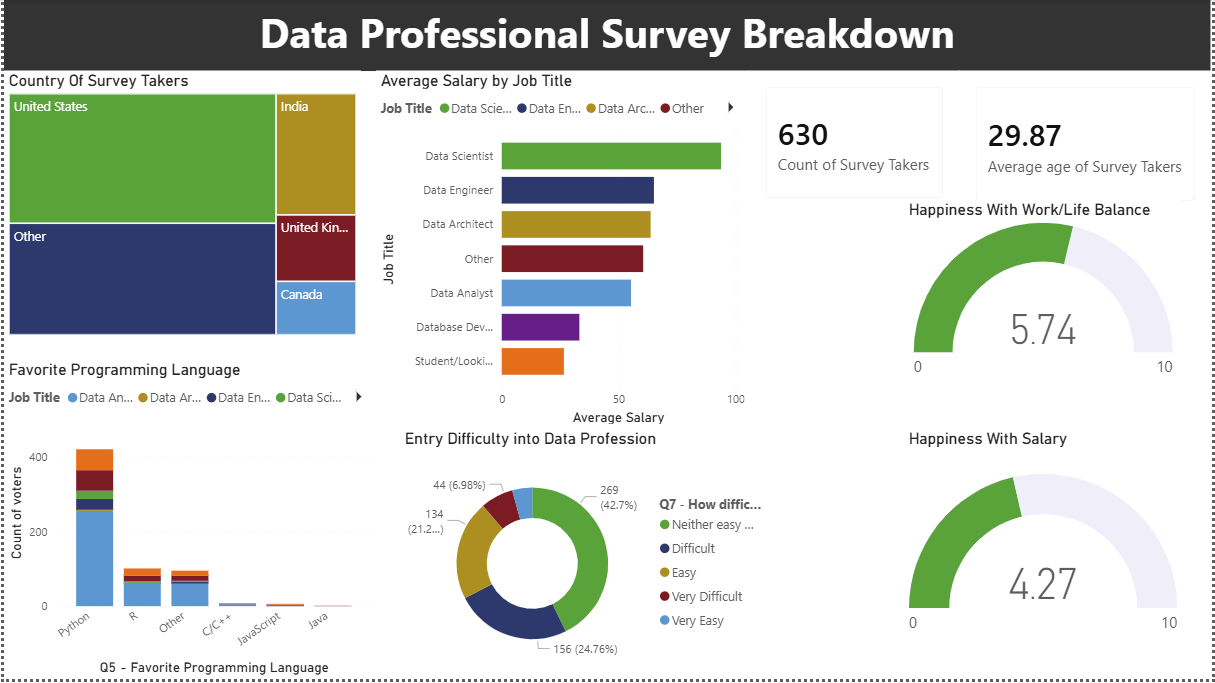

What the dashboard file says about the page in this screenshot:
{"tool":"powerbi","page":{"name":"Page 2","canvas":[1280,720],"ordinal":0},"visuals":[{"type":"textbox","box":[0,0,1279.4,75.6],"z":0},{"type":"cardVisual","fields":{"Data":["CountNonNull(Data Professional Survey (2).Unique ID)"]},"box":[790.3,75.3,222.5,152.2],"z":1000},{"type":"cardVisual","fields":{"Data":["Avg(Data Professional Survey (2).Q10 - Current Age)"]},"box":[1012.8,75.3,266.7,155.4],"z":2000},{"type":"barChart","title":"Average Salary by Job Title","fields":{"Category":["Data Professional Survey (2).Q1 - Which Title Best Fits your Current Role?.1"],"Y":["Avg(Data Professional Survey (2).Average Salary)"],"Series":["Data Professional Survey (2).Q1 - Which Title Best Fits your Current Role?.1"]},"box":[394.3,75.3,395.9,379.6],"z":3000},{"type":"columnChart","title":"Favorite Programming Language","fields":{"Category":["Data Professional Survey (2).Q5 - Favorite Programming Language.1"],"Y":["CountNonNull(Data Professional Survey (2).Unique ID)"],"Series":["Data Professional Survey (2).Q1 - Which Title Best Fits your Current Role?.1"]},"box":[0,381.2,394.3,338.7],"z":4000},{"type":"treemap","title":"Country Of Survey Takers","fields":{"Group":["Data Professional Survey (2).Q11 - Which Country do you live in?.1"],"Values":["CountNonNull(Data Professional Survey (2).Q11 - Which Country do you live in?.1)"]},"box":[0,75.3,377.9,284.7],"z":5000},{"type":"gauge","title":"Happiness With Work/Life Balance","fields":{"Y":["Avg(Data Professional Survey (2).Q6 - How Happy are you in your Current Position with the following? (Work/Life Balance)"],"MinValue":["Min(Data Professional Survey (2).Q6 - How Happy are you in your Current Position with the following? (Work/Life Balance)"],"MaxValue":["Max(Data Professional Survey (2).Q6 - How Happy are you in your Current Position with the following? (Work/Life Balance)"]},"box":[953.9,211.1,294.5,198],"z":6000},{"type":"gauge","title":"Happiness With Salary","fields":{"Y":["Avg(Data Professional Survey (2).Q6 - How Happy are you in your Current Position with the following? (Salary))"],"MinValue":["Min(Data Professional Survey (2).Q6 - How Happy are you in your Current Position with the following? (Salary))"],"MaxValue":["Max(Data Professional Survey (2).Q6 - How Happy are you in your Current Position with the following? (Salary))1"]},"box":[953.9,454.8,294.5,248.7],"z":7000},{"type":"donutChart","title":"Entry Difficulty into Data Profession","fields":{"Category":["Data Professional Survey (2).Q7 - How difficult was it for you to break into Data?"],"Y":["CountNonNull(Data Professional Survey (2).Unique ID)"]},"box":[420.5,454.8,395.9,265.1],"z":8000}]}

Visuals, with their boxes in screenshot pixels (x1, y1, x2, y2), scaled from the page's 1280x720 canvas onto the 1215x683 screenshot:
textbox: [0, 0, 1214, 72]
cardVisual - CountNonNull(Data Professional Survey (2).Unique ID): [750, 71, 961, 216]
cardVisual - Avg(Data Professional Survey (2).Q10 - Current Age): [961, 71, 1214, 219]
"Average Salary by Job Title" barChart: [374, 71, 750, 432]
"Favorite Programming Language" columnChart: [0, 362, 374, 682]
"Country Of Survey Takers" treemap: [0, 71, 359, 342]
"Happiness With Work/Life Balance" gauge: [905, 200, 1185, 388]
"Happiness With Salary" gauge: [905, 431, 1185, 667]
"Entry Difficulty into Data Profession" donutChart: [399, 431, 775, 682]
